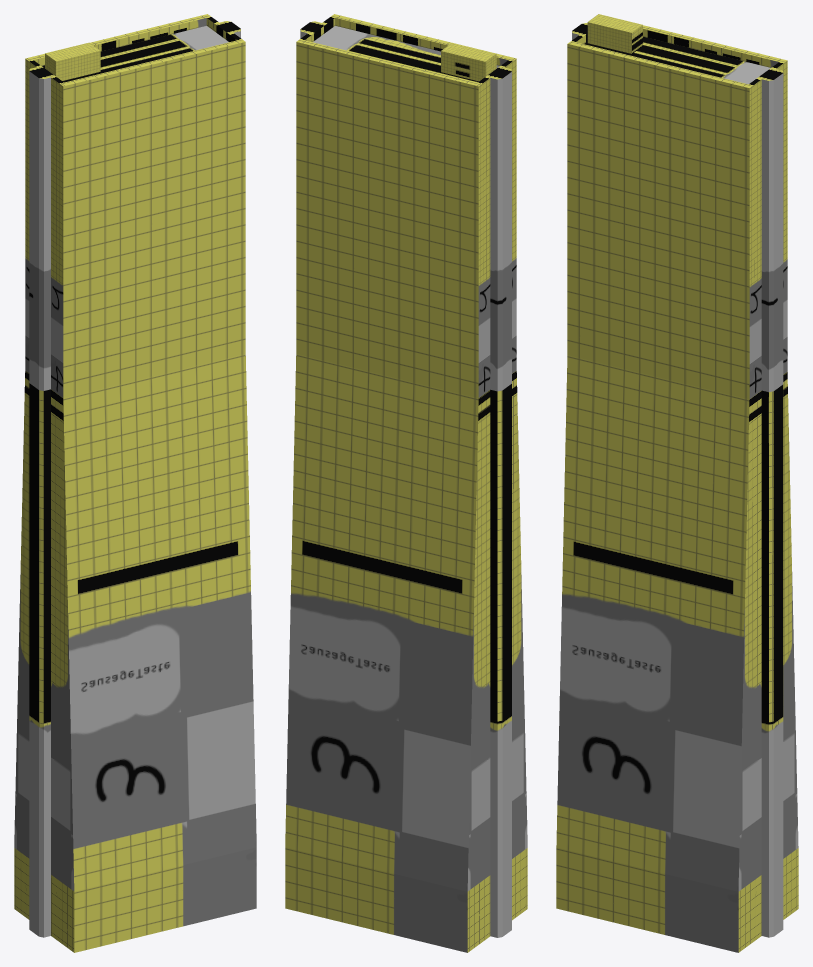
File: 63building.obj
The picture shows the model from 3 angles, left to right: view 1: azimuth 30°, elevation 25°; view 2: azimuth 150°, elevation 25°; view 3: azimuth 330°, elevation 25°; orthographic projection.
Parts seen in each view (by area): view 1: buiilding_Cube; view 2: buiilding_Cube; view 3: buiilding_Cube.
Boxes of the visible parts, box(x1,y1,x2,y2) form: buiilding_Cube: box(14, 14, 256, 952); buiilding_Cube: box(285, 14, 527, 952); buiilding_Cube: box(556, 14, 798, 952).
Bounding box in the file's own units: 1.58 × 6.5 × 0.8129.
